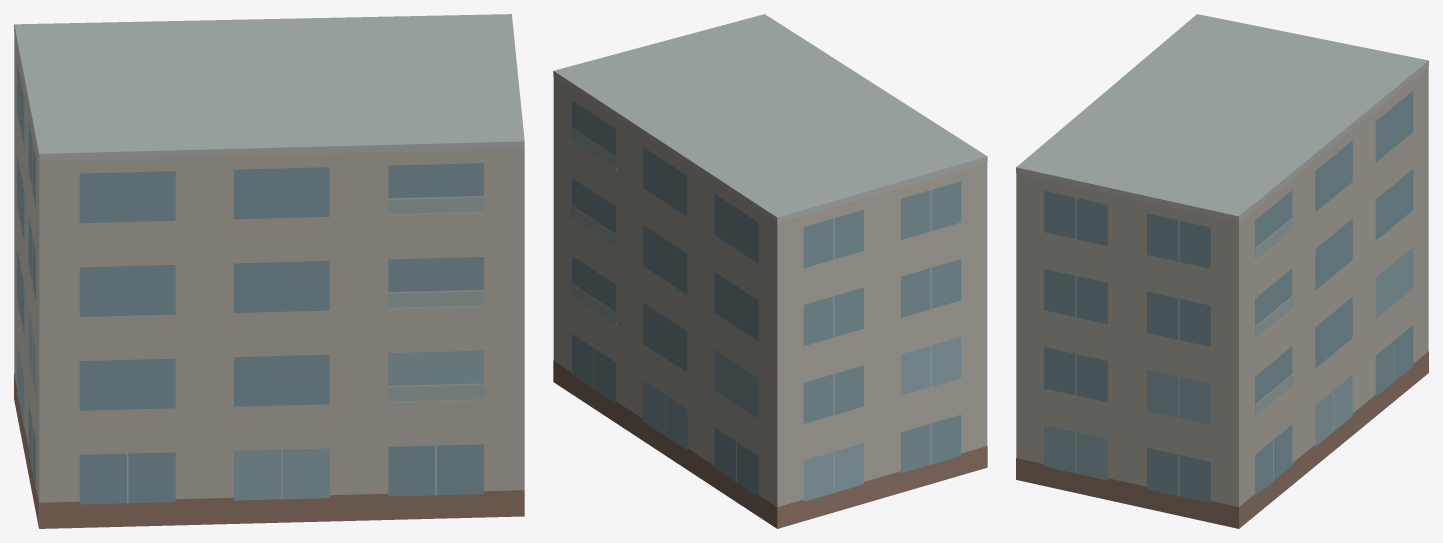
File: survey-upis-32884382.glb
3 renders of one model, left to right at view 1: azimuth 30°, elevation 25°; view 2: azimuth 150°, elevation 25°; view 3: azimuth 270°, elevation 25°, orthographic. The views are drawn at different scales.
Visible parts, largest first — view 1: survey-upis-32884382.tmp; view 2: survey-upis-32884382.tmp; view 3: survey-upis-32884382.tmp.
Part boxes in pixels (x1,y1,x2,y2): survey-upis-32884382.tmp: (14, 14, 524, 528); survey-upis-32884382.tmp: (553, 14, 987, 528); survey-upis-32884382.tmp: (1016, 14, 1428, 528).
Bounding box in the file's own units: 17.79 × 12.8 × 15.33.
